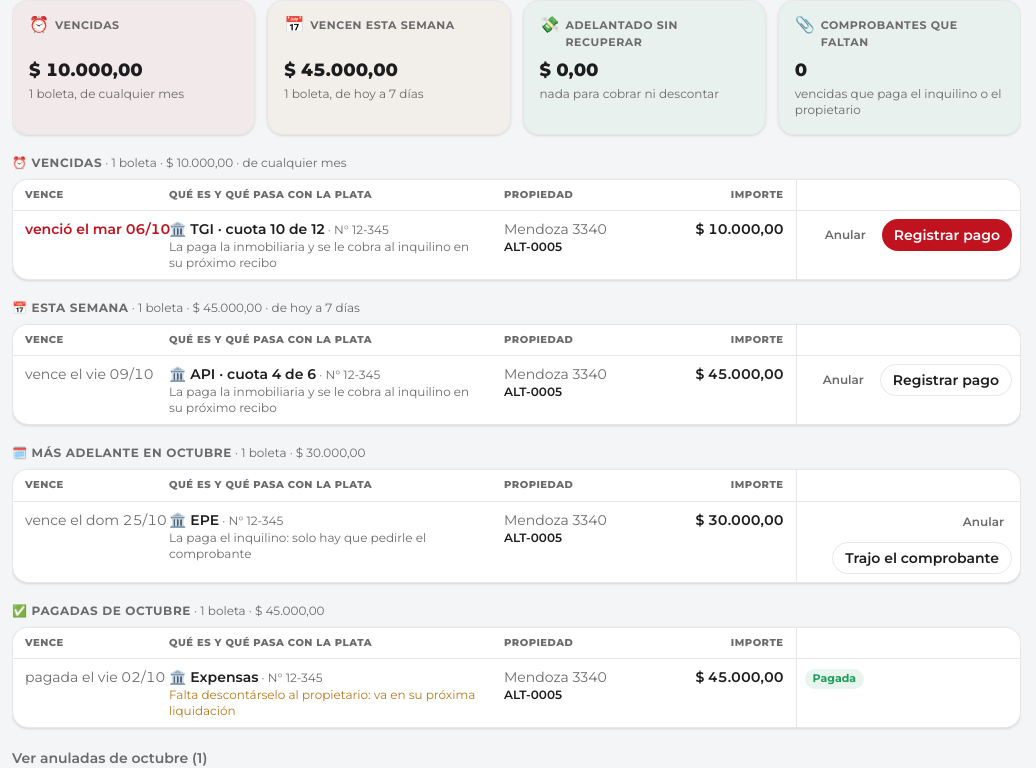
it: «Para pagar» (reglas 46 a 50) › regla 48: agrupa en Vencidas, Esta semana, Más adelante en octubre y Pagadas de octubre
(page scrolled)
Expected: the text "TGI · cuota 10 de 12" is shown, [190,220,325,238]
Expected: the text "venció el mar 06/10" is shown, [13,210,157,279]
Click the button "Ver anuladas de octubre (1)". click: (110, 758)
box: [12,748,207,767]
(page scrolled)
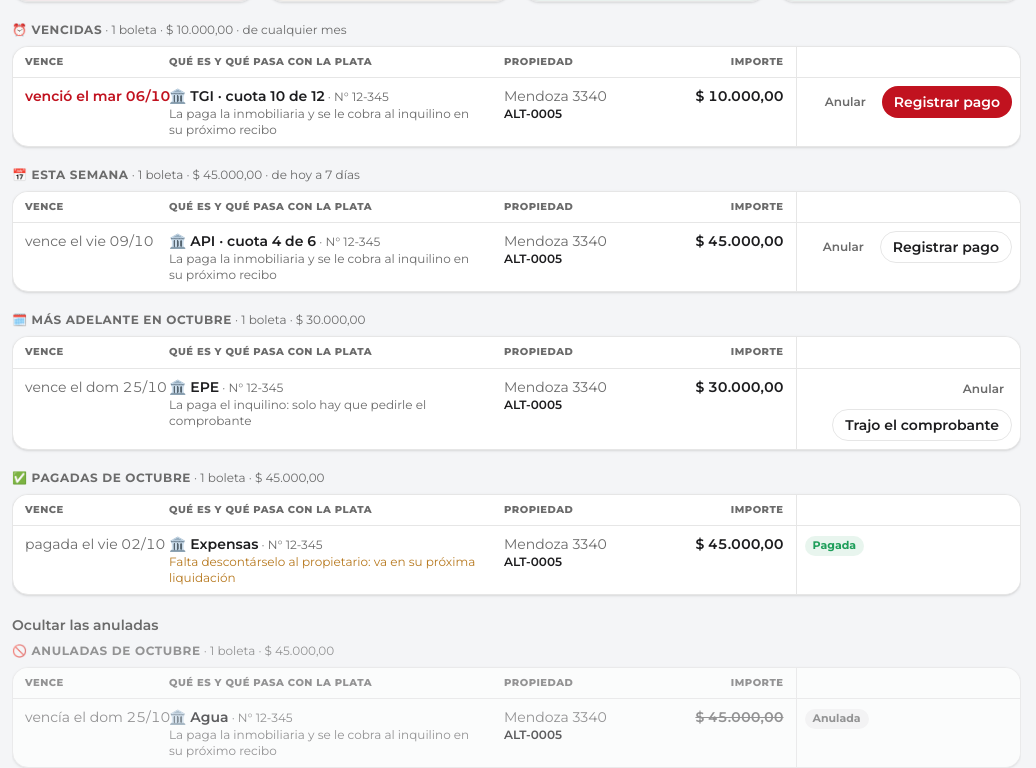
Result: the text "Agua" is shown at [190,708,228,726]
